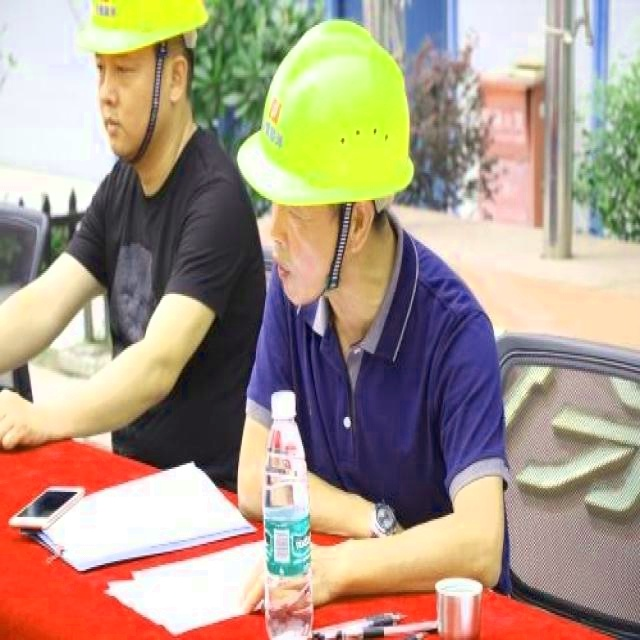Con_Casco: (262, 26, 407, 288)
